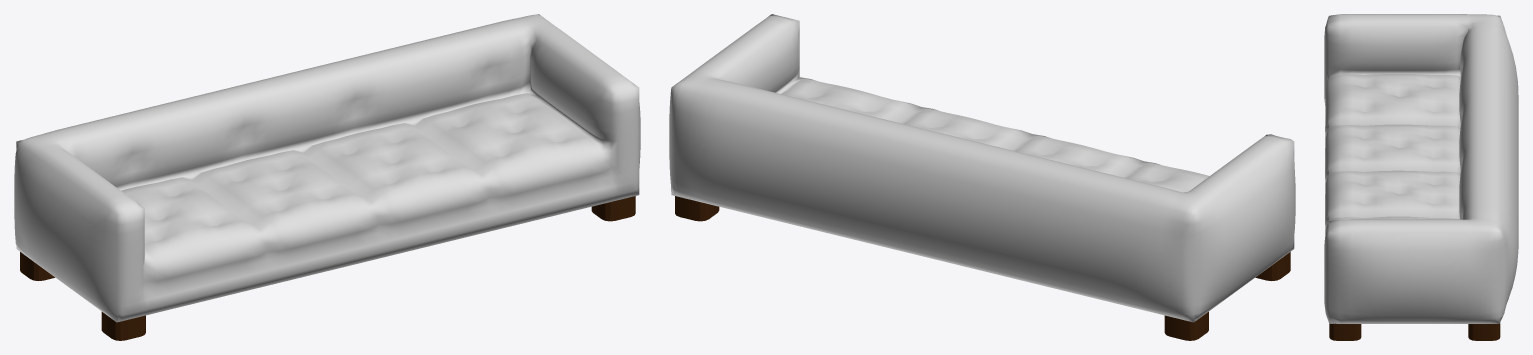
The model's file is диван.fbx.
3 views of the same model, side by side, from view 1: azimuth 30°, elevation 25°; view 2: azimuth 150°, elevation 25°; view 3: azimuth 270°, elevation 25° (orthographic). The views are drawn at different scales.
Visible parts, largest first — view 1: Cube, Cube.004, Cube.001, Cube.003; view 2: Cube, Cube.003, Cube.002, Cube.004; view 3: Cube, Cube.001, Cube.002.
Boxes of the visible parts, box(x1,y1,x2,y2) form: Cube: box(14, 14, 640, 322); Cube.004: box(101, 312, 145, 340); Cube.001: box(591, 196, 635, 221); Cube.003: box(20, 252, 54, 280); Cube: box(669, 14, 1295, 322); Cube.003: box(1164, 311, 1208, 340); Cube.002: box(675, 196, 719, 221); Cube.004: box(1255, 252, 1290, 280); Cube: box(1324, 14, 1518, 323); Cube.001: box(1329, 324, 1361, 340); Cube.002: box(1468, 324, 1500, 340).
Bounding box in the file's own units: 642 × 147 × 227.
